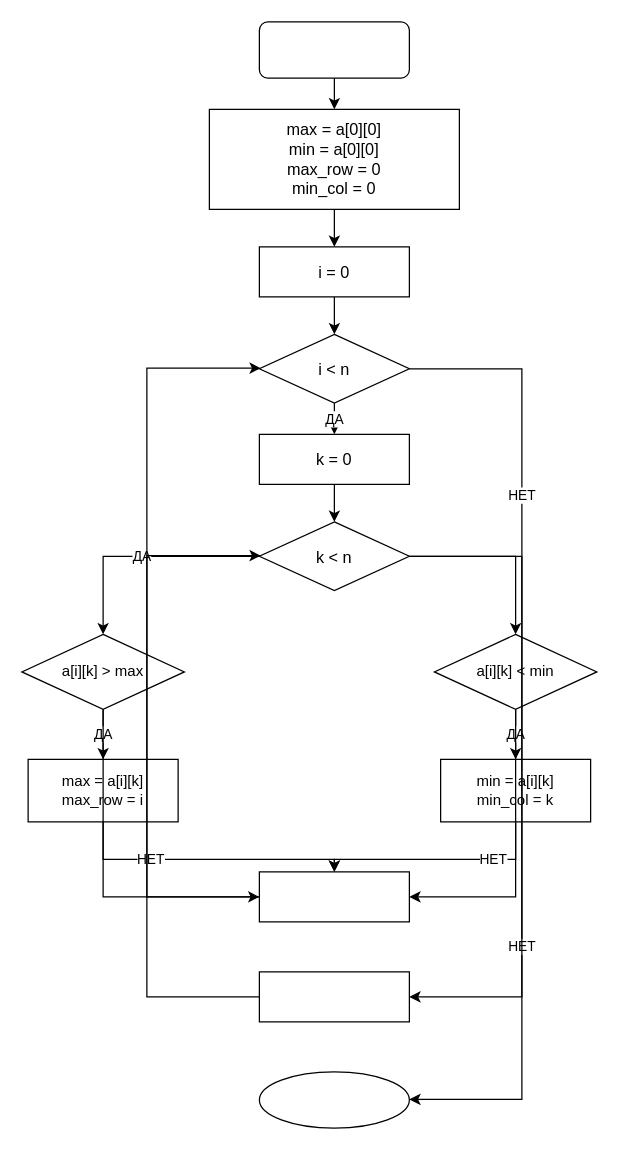
Some shapes in this 619 by 1150 pixel diagram are drawn without their labels. The centre of each missing label's shape, as x and y in pixels:
"i = i + 1" goes at point (333, 996).
"k = k + 1" goes at point (333, 896).
"Конец" goes at point (333, 1099).
"Начало" goes at point (333, 49).
